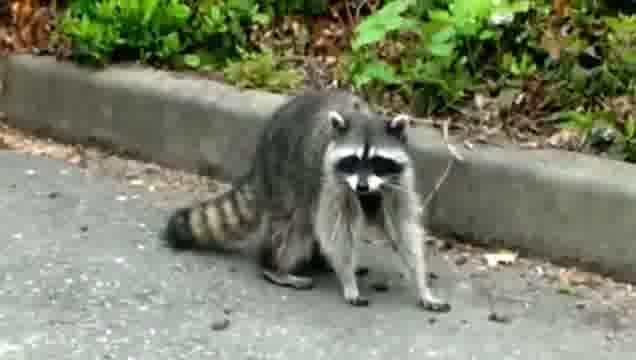raccoon: (167, 91, 452, 316)
